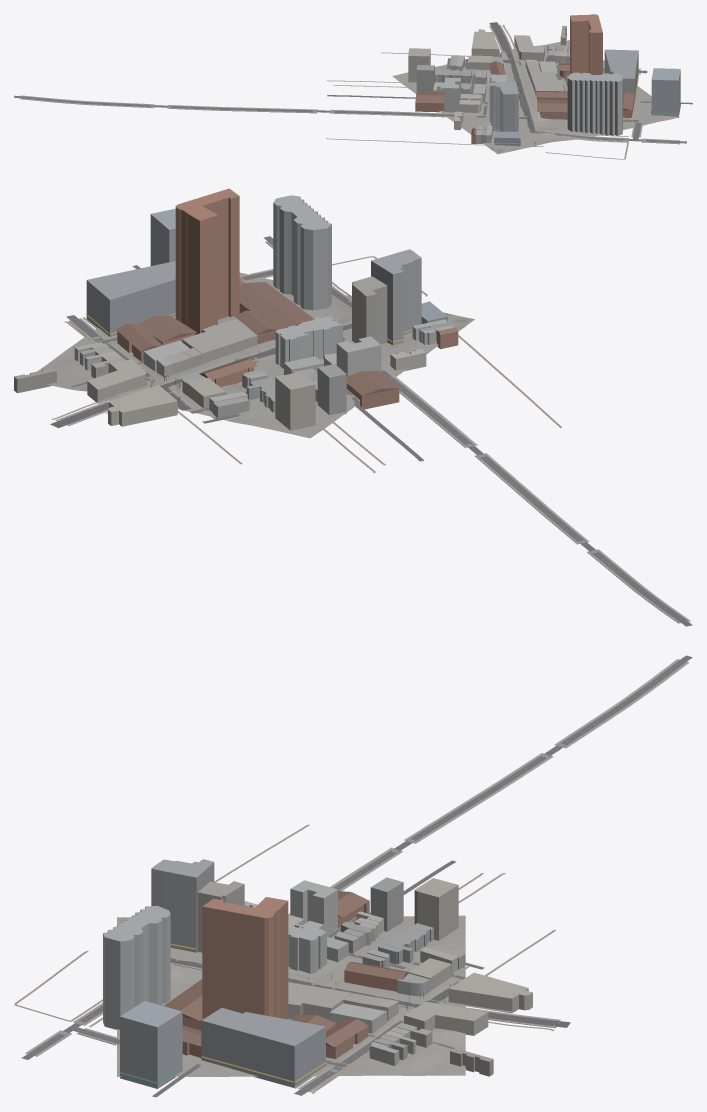
Rendered from tile_-6_-2.glb.
3 renders of one model, top to bottom at view 1: azimuth 30°, elevation 25°; view 2: azimuth 150°, elevation 25°; view 3: azimuth 270°, elevation 25°, orthographic. The views are drawn at different scales.
Parts seen in each view (by area): view 1: buildings, terrain, roads, sidewalks, paths; view 2: buildings, terrain, roads, sidewalks, paths; view 3: buildings, terrain, roads, sidewalks, paths.
Part boxes in pixels (left/top/right/bottom): buildings: left=408, top=14, right=680, bottom=146; terrain: left=392, top=40, right=679, bottom=154; roads: left=14, top=22, right=692, bottom=143; sidewalks: left=20, top=24, right=680, bottom=144; paths: left=326, top=24, right=641, bottom=159; buildings: left=14, top=188, right=458, bottom=430; terrain: left=37, top=272, right=474, bottom=438; roads: left=50, top=236, right=692, bottom=626; sidewalks: left=55, top=241, right=690, bottom=623; paths: left=51, top=256, right=561, bottom=473; buildings: left=103, top=859, right=532, bottom=1088; terrain: left=117, top=915, right=465, bottom=1076; roads: left=21, top=655, right=692, bottom=1097; sidewalks: left=25, top=659, right=688, bottom=1092; paths: left=14, top=824, right=555, bottom=1093.
Bounding box in the file's own units: 727 × 106 × 498.
